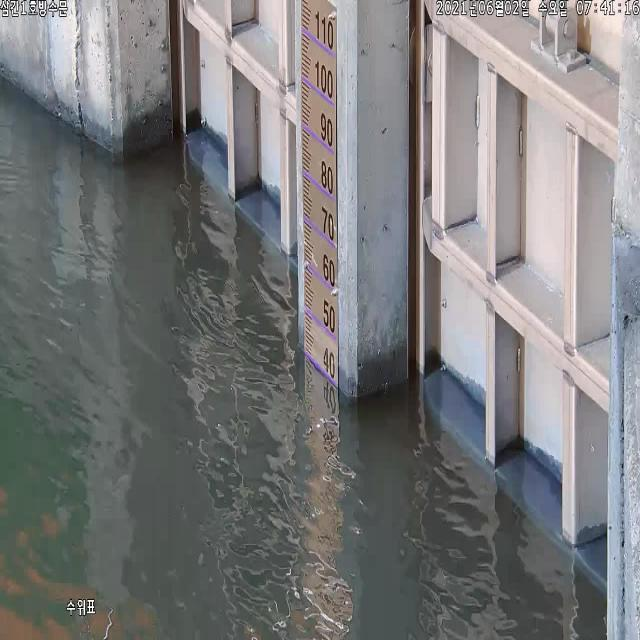ruler: (292, 0, 348, 403)
value: (312, 4, 336, 56), (312, 58, 336, 102), (318, 156, 336, 198), (320, 294, 337, 338), (320, 204, 337, 246), (318, 109, 335, 150), (322, 250, 337, 292), (322, 342, 336, 384)
